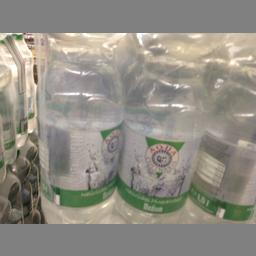water: (116, 32, 226, 219), (31, 32, 121, 222), (186, 32, 255, 219)
